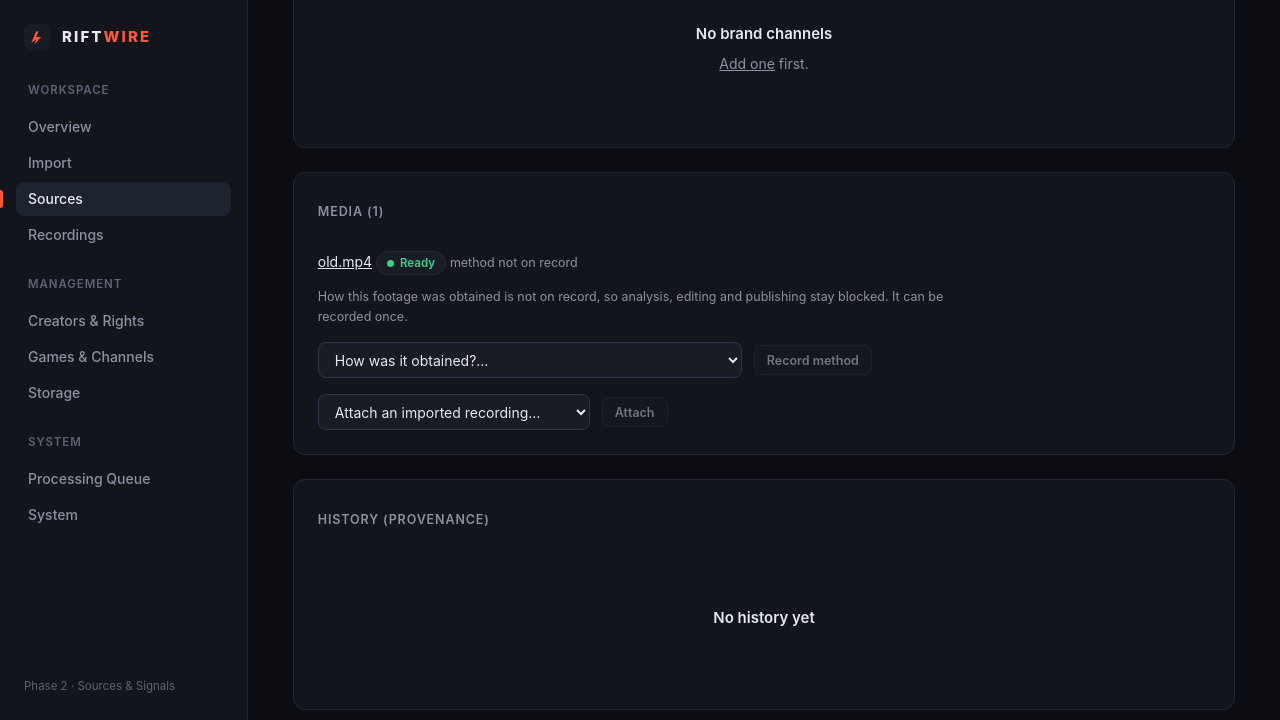
Test: Source detail › asks once how footage was obtained when the method is not on record
(page scrolled)
Expected: the text "method not on record" is shown, [450, 255, 578, 270]
Expected: the button "Record method" is disabled, [754, 345, 872, 375]
Select "Creator's original files" in the dropdown named "How the footage was obtained". click: coordinates (530, 360)
box: [318, 342, 742, 378]
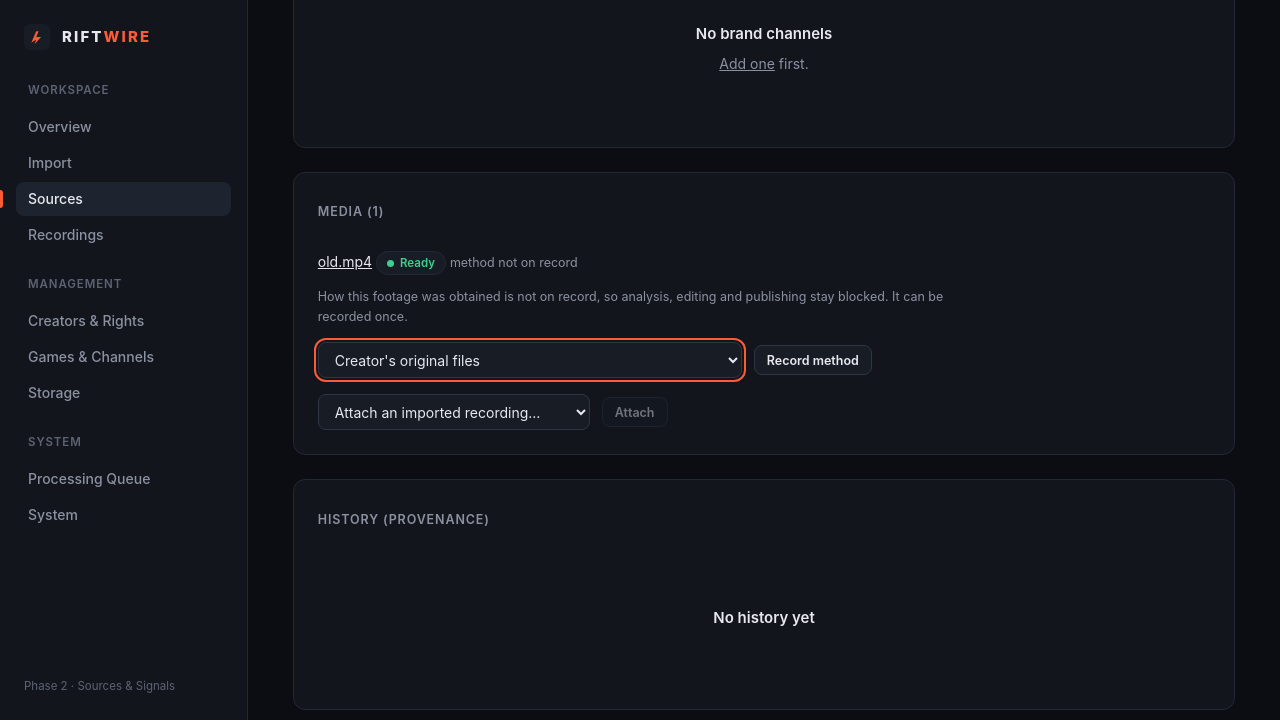
Click the button "Record method". click: coordinates (813, 360)
box: [754, 345, 872, 375]
(page scrolled)
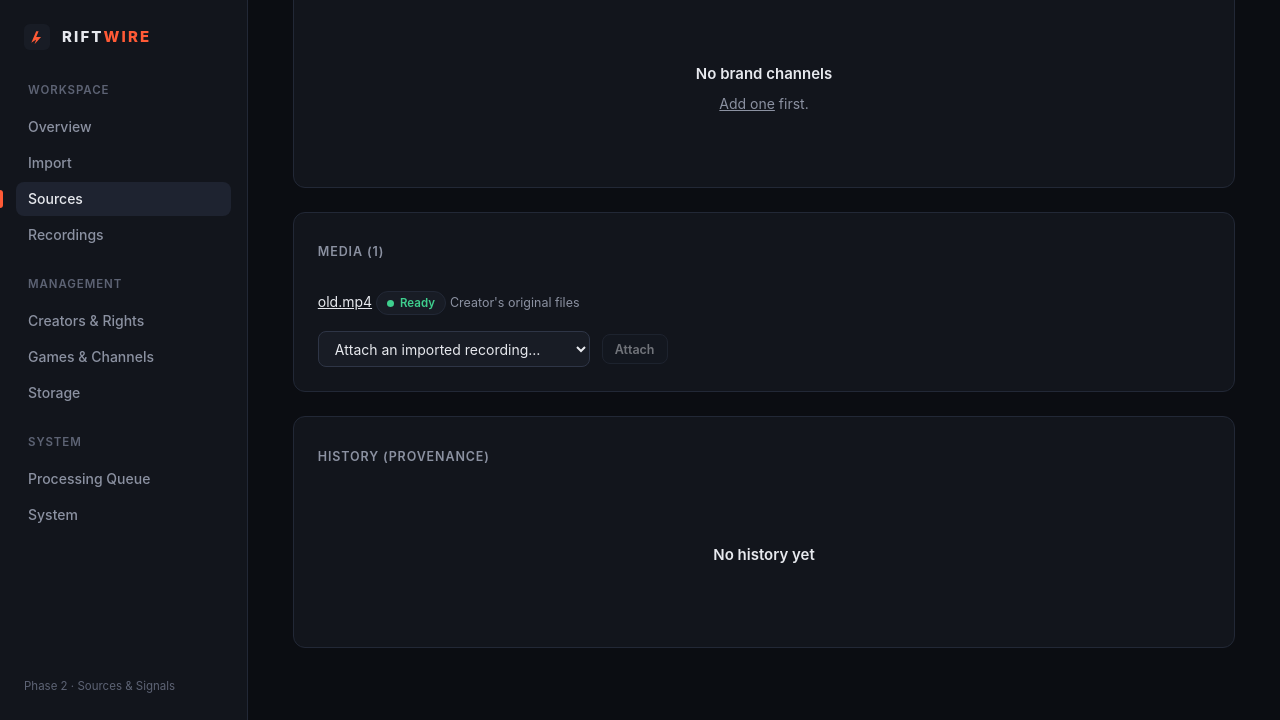
Expected: the button "Record method" is gone
Expected: the text "Creator's original files" is shown, [450, 295, 580, 310]
